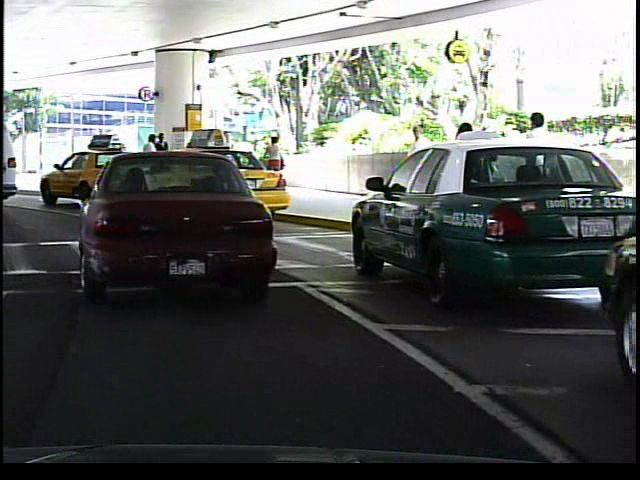person: (447, 112, 498, 229), (518, 106, 562, 232), (402, 119, 437, 208), (263, 132, 287, 192), (140, 132, 160, 188), (154, 129, 172, 188)
